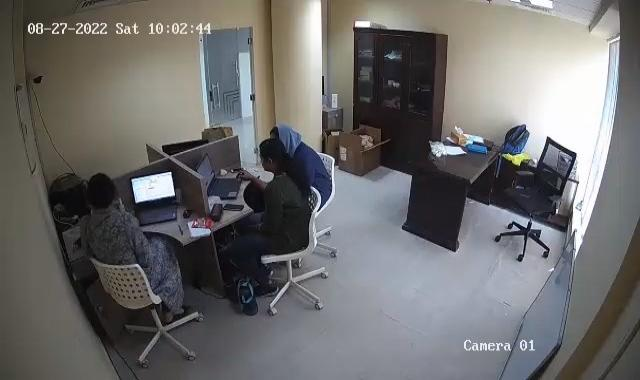no_hairnet: (84, 172, 114, 214), (258, 141, 286, 176), (274, 119, 305, 150)
